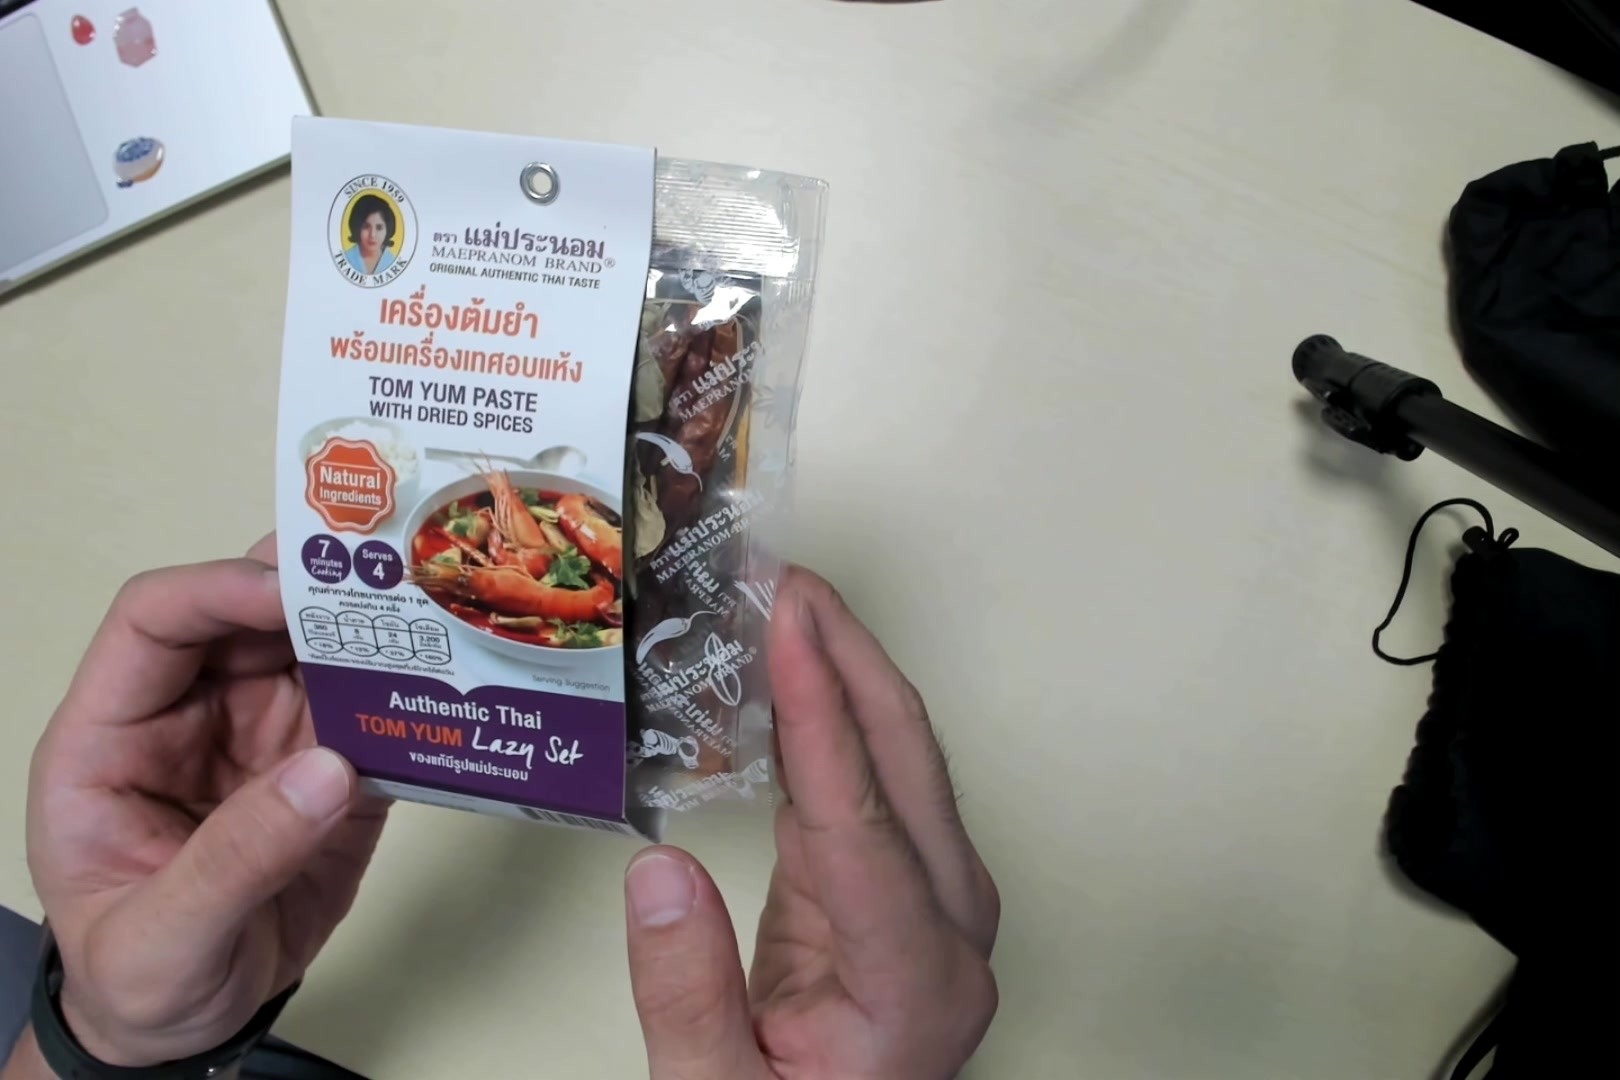OtherSauceDressingSoupBaswPaste_0-99g_Halal_NonHealthy: (297, 124, 779, 824)
